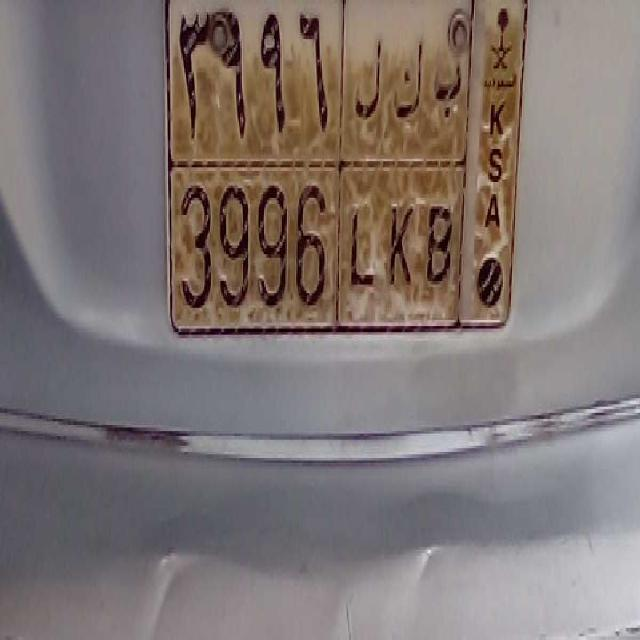license_plate: (172, 152, 462, 324)
